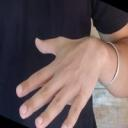hand: (15, 36, 106, 128)
